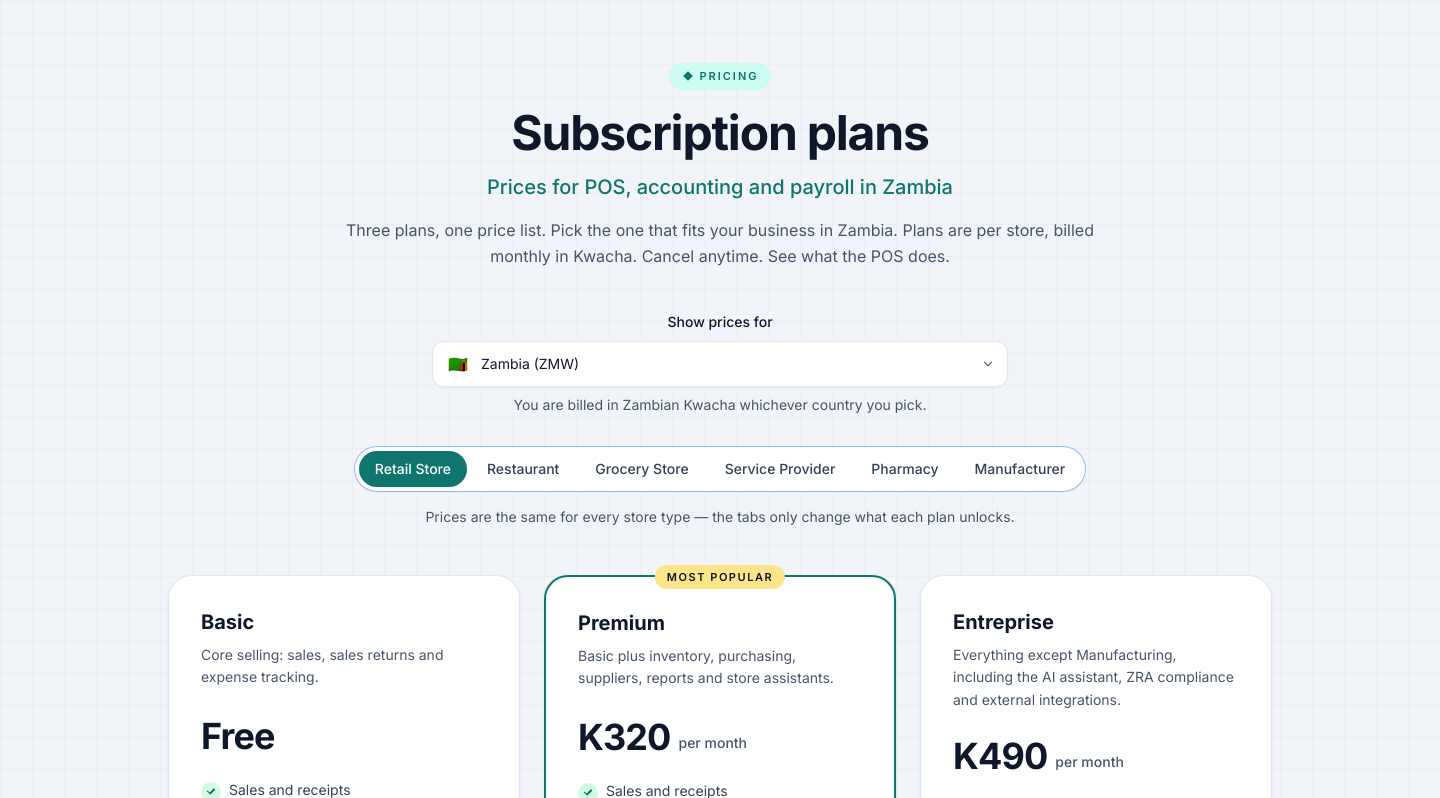
PricingContent › matches the pharmacy screenshot rows and heading
Click the tab "Pharmacy".
click(905, 468)  # box [855,450,954,486]
(page scrolled)
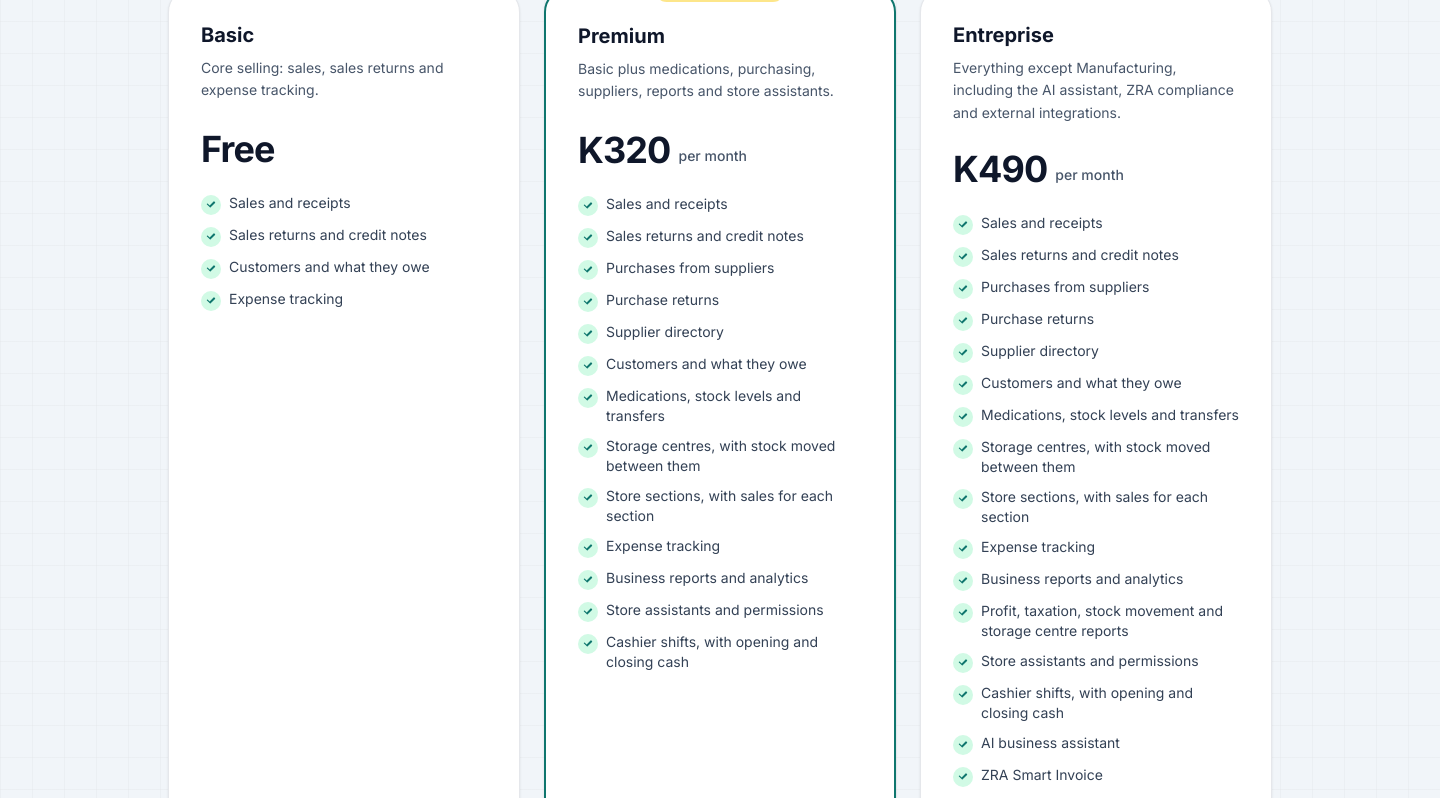
Expected: the 1st text "Medications, stock levels and transfers" is shown, [606,386,801,424]
